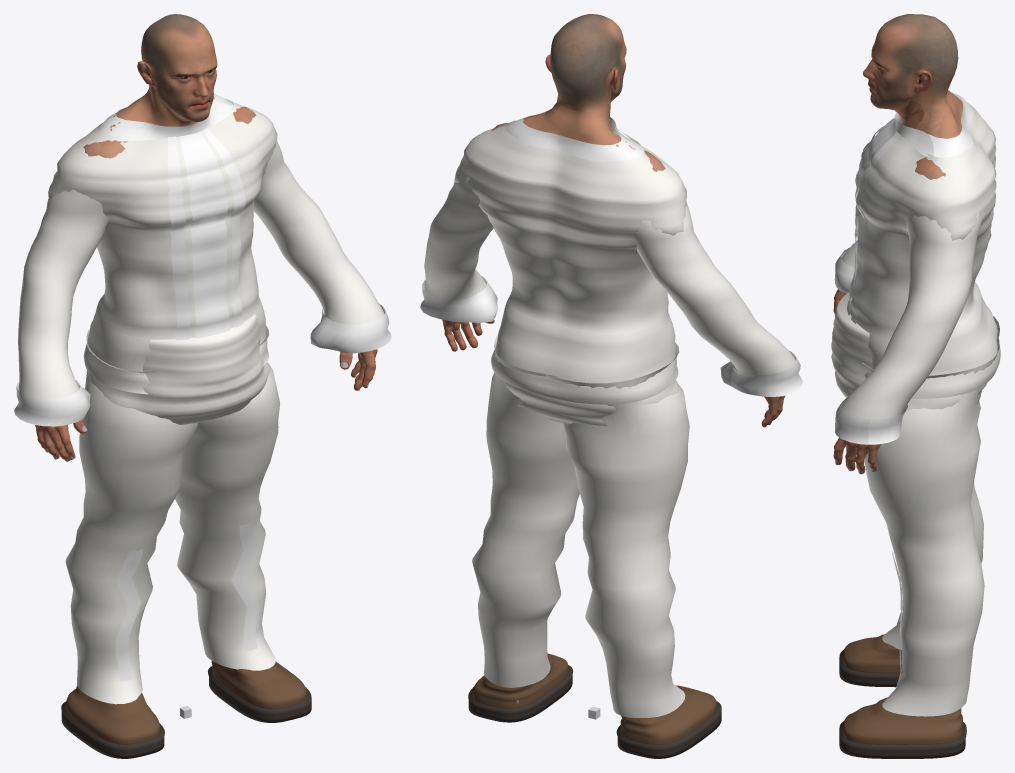
File: male-white-red.glb
The picture shows the model from 3 angles, left to right: view 1: azimuth 30°, elevation 25°; view 2: azimuth 150°, elevation 25°; view 3: azimuth 270°, elevation 25°; orthographic projection.
Parts seen in each view (by area): view 1: HM_Tunic, HM_Pants_Leg_R, HM_Pants_Leg_L, HM_Sleeve_R, HM_Pants_Pelvis, HM_Sleeve_L, HM_Embroidery_Torso, Object_7, HM_Shoe_R, HM_Shoe_L, Object_2, HM_Embroidery_Torso.002 (+9 smaller); view 2: HM_Tunic, HM_Pants_Leg_R, HM_Pants_Leg_L, HM_Sleeve_R, Object_7, HM_Sleeve_L, HM_Shoe_R, Object_11, HM_Embroidery_Collar, HM_Pants_Pelvis, HM_Shoe_L, HM_Embroidery_Cuff_L (+4 smaller); view 3: HM_Pants_Leg_L, HM_Tunic, HM_Sleeve_L, Object_7, HM_Shoe_L, HM_Pants_Pelvis, HM_Sole_L, HM_Embroidery_Cuff_L, HM_Shoe_R, HM_Embroidery_Collar, Object_2, HM_Embroidery_Torso.001 (+6 smaller).
Boxes of the visible parts, left/top/right/bottom form: HM_Tunic: left=48, top=99, right=277, bottom=394; HM_Pants_Leg_R: left=65, top=329, right=198, bottom=704; HM_Pants_Leg_L: left=175, top=325, right=280, bottom=670; HM_Sleeve_R: left=18, top=189, right=108, bottom=425; HM_Pants_Pelvis: left=87, top=314, right=269, bottom=424; HM_Sleeve_L: left=253, top=141, right=384, bottom=324; HM_Embroidery_Torso: left=180, top=132, right=230, bottom=338; Object_7: left=137, top=14, right=217, bottom=122; HM_Shoe_R: left=65, top=686, right=160, bottom=744; HM_Shoe_L: left=211, top=661, right=306, bottom=708; Object_2: left=35, top=104, right=377, bottom=460; HM_Embroidery_Torso.002: left=167, top=136, right=190, bottom=339; HM_Tunic: left=454, top=120, right=686, bottom=404; HM_Pants_Leg_R: left=535, top=342, right=689, bottom=717; HM_Pants_Leg_L: left=472, top=334, right=579, bottom=687; HM_Sleeve_R: left=632, top=201, right=795, bottom=375; Object_7: left=545, top=14, right=626, bottom=112; HM_Sleeve_L: left=424, top=177, right=493, bottom=300; HM_Shoe_R: left=620, top=685, right=716, bottom=744; Object_11: left=523, top=97, right=631, bottom=147; HM_Embroidery_Collar: left=505, top=115, right=644, bottom=162; HM_Pants_Pelvis: left=505, top=380, right=678, bottom=425; HM_Shoe_L: left=473, top=653, right=568, bottom=708; HM_Embroidery_Cuff_L: left=420, top=276, right=497, bottom=322; HM_Pants_Leg_L: left=862, top=333, right=999, bottom=716; HM_Tunic: left=850, top=102, right=1000, bottom=398; HM_Sleeve_L: left=842, top=213, right=981, bottom=444; Object_7: left=862, top=14, right=958, bottom=110; HM_Shoe_L: left=843, top=697, right=962, bottom=744; HM_Pants_Pelvis: left=831, top=292, right=986, bottom=412; HM_Sole_L: left=839, top=721, right=966, bottom=758; HM_Embroidery_Cuff_L: left=835, top=397, right=907, bottom=444; HM_Shoe_R: left=843, top=634, right=902, bottom=673; HM_Embroidery_Collar: left=894, top=92, right=973, bottom=157; Object_2: left=833, top=157, right=945, bottom=473; HM_Embroidery_Torso.001: left=851, top=131, right=899, bottom=323.
Bounding box in the file's own units: 97.12 × 175 × 38.79.
Materials: 17 (7 with a texture image).
